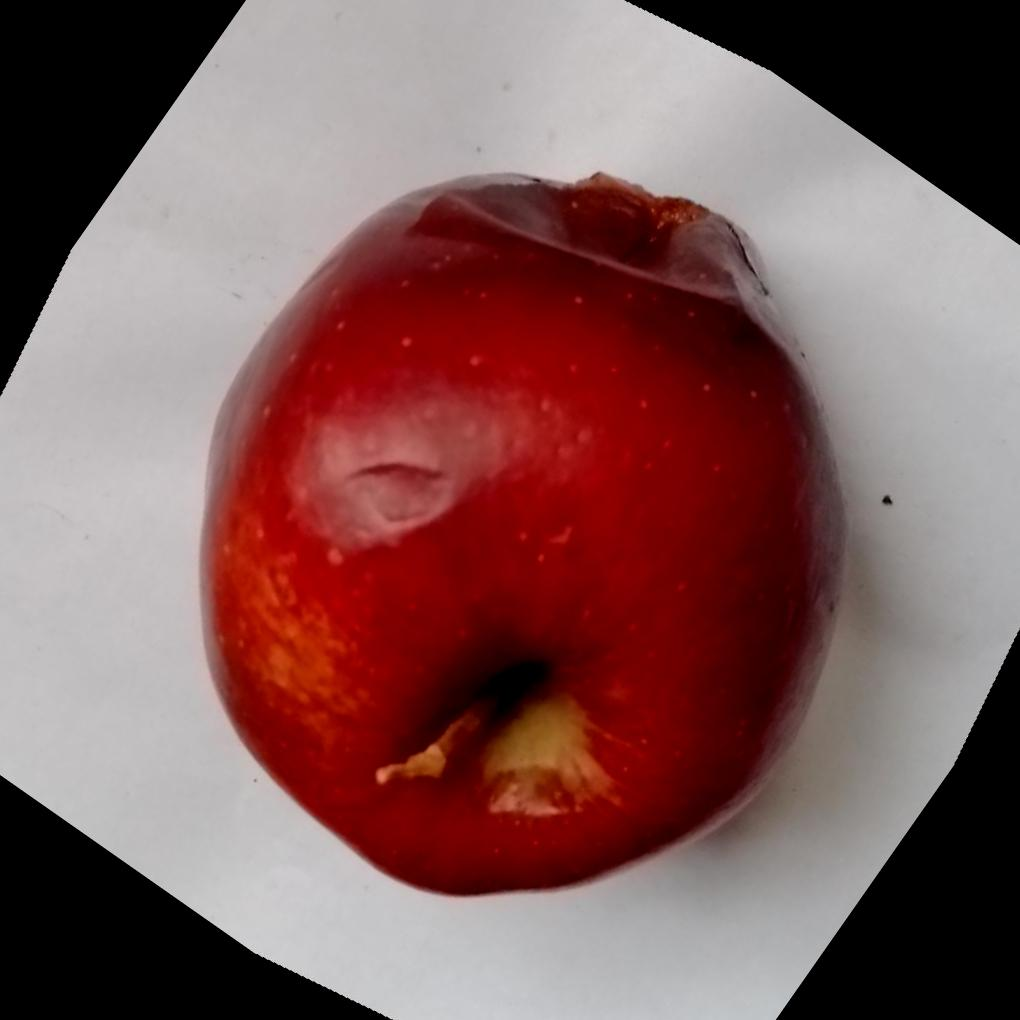FreshOrange: (199, 167, 850, 896)
